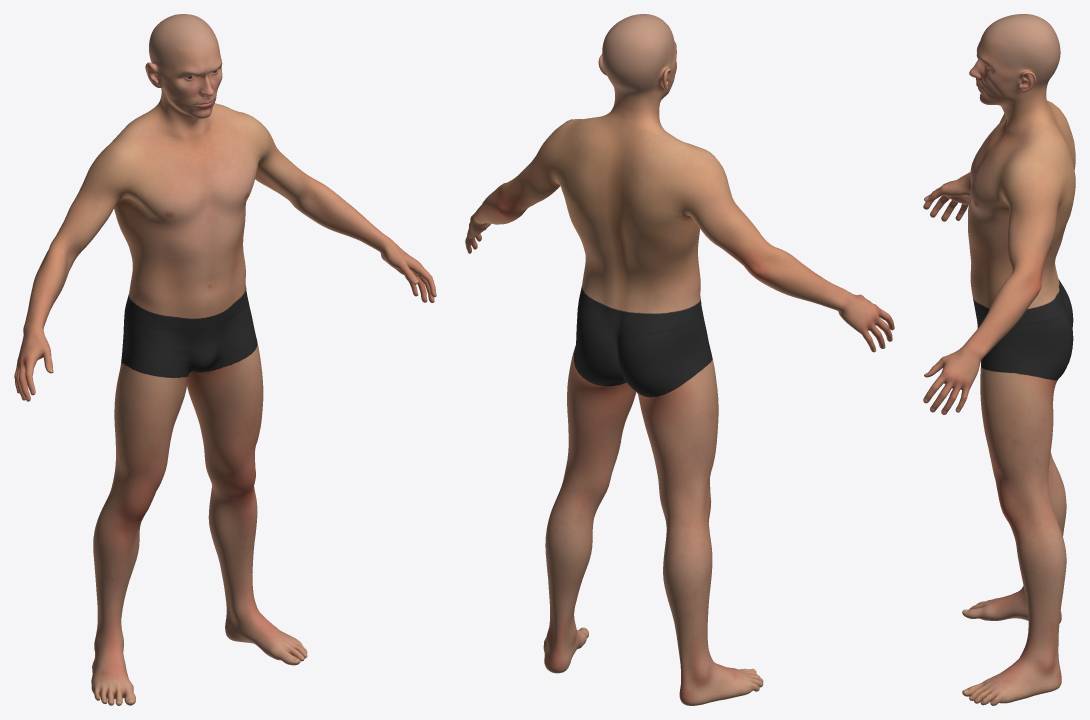
3 views of the same model, side by side, from view 1: azimuth 30°, elevation 25°; view 2: azimuth 150°, elevation 25°; view 3: azimuth 270°, elevation 25° (orthographic). The views are drawn at different scales.
Visible parts, largest first — view 1: HG_Body_0; view 2: HG_Body_0; view 3: HG_Body_0.
Part boxes in pixels (x1=…): HG_Body_0: x1=14, y1=14, x2=436, y2=705; HG_Body_0: x1=465, y1=14, x2=894, y2=705; HG_Body_0: x1=923, y1=14, x2=1075, y2=705.
Bounding box in the file's own units: 1.16 × 1.75 × 0.3776.
3 materials, 3 textured.
